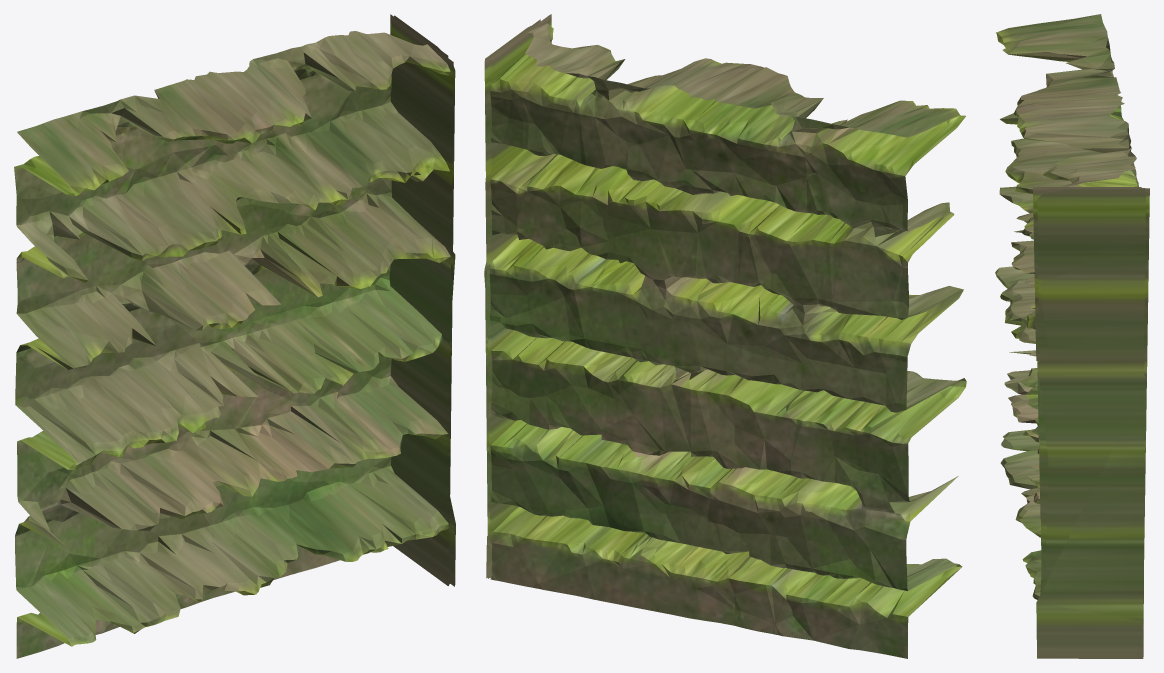
The model's file is map_240_100.obj.
3 views of the same model, side by side, from view 1: azimuth 30°, elevation 25°; view 2: azimuth 150°, elevation 25°; view 3: azimuth 270°, elevation 25° (orthographic). The views are drawn at different scales.
Visible parts, largest first — view 1: grp1; view 2: grp1; view 3: grp1.
Part boxes in pixels (x1,y1,x2,y2): grp1: (14, 14, 455, 658); grp1: (484, 14, 966, 658); grp1: (995, 14, 1149, 658).
Size of the model in its own units: 8 by 10 by 2.99.
1 material, 1 textured.
